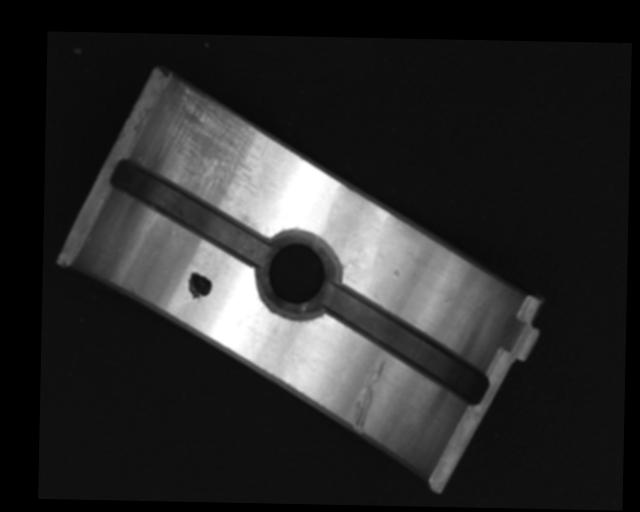blot: (186, 270, 213, 300)
bruise: (392, 268, 400, 281)
gap: (322, 283, 489, 402), (108, 159, 272, 266)
hole: (258, 229, 339, 318)
nick: (351, 359, 385, 435)
scratch: (153, 85, 268, 206)
